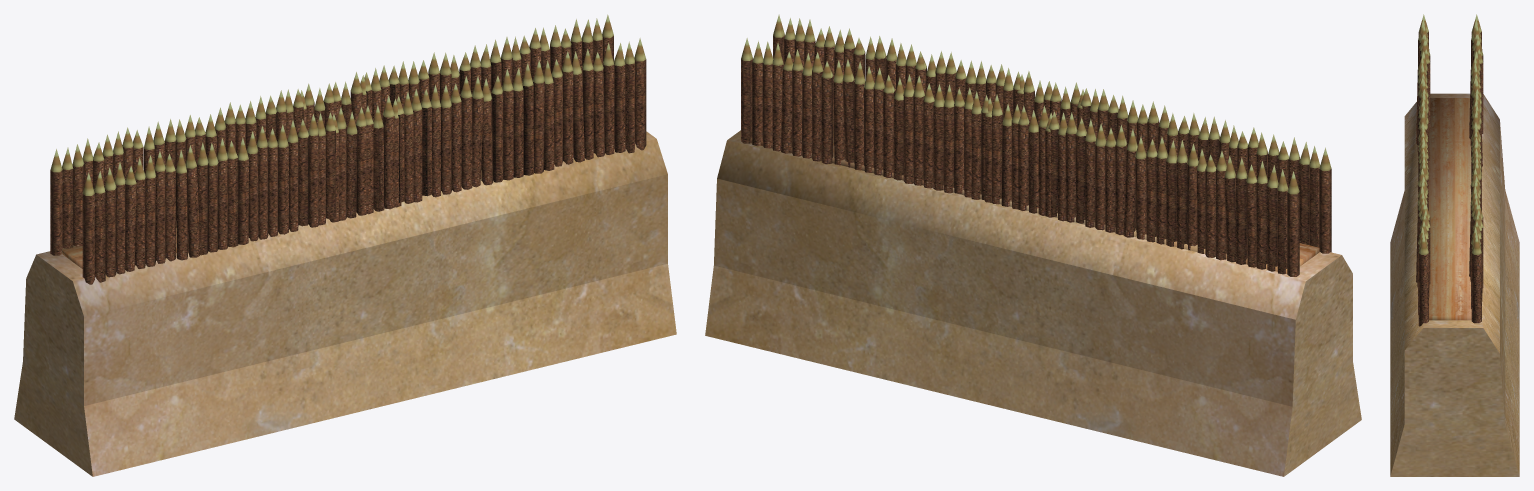
File: xion_wall_long.dae
3 views of the same model, side by side, from view 1: azimuth 30°, elevation 25°; view 2: azimuth 150°, elevation 25°; view 3: azimuth 270°, elevation 25° (orthographic). The views are drawn at different scales.
Parts seen in each view (by area): view 1: wall_long; view 2: wall_long; view 3: wall_long.
Boxes of the visible parts, x1,y1,x2,y2 form: wall_long: (14,14,676,476); wall_long: (705,14,1361,476); wall_long: (1390,14,1519,476).
Size of the model in its own units: 32.69 by 7.63 by 15.53.
